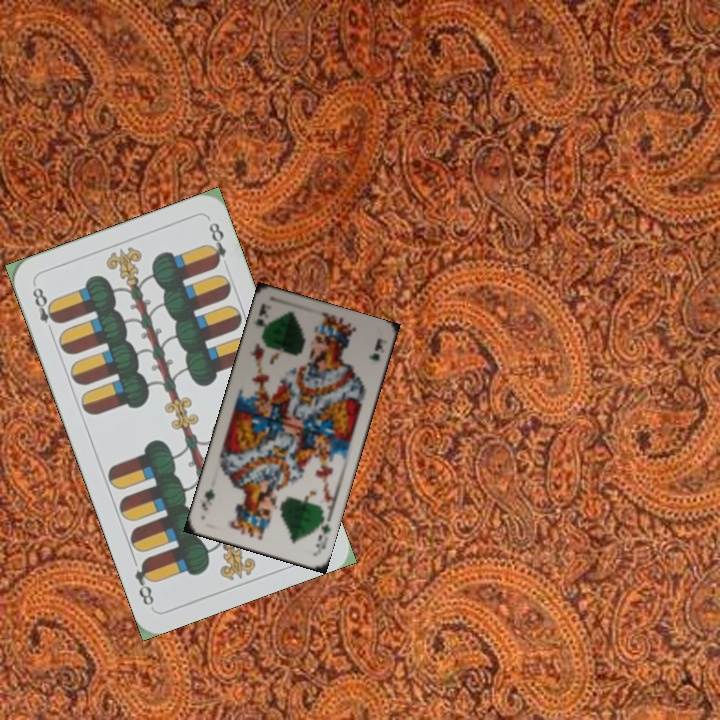E8: (28, 280, 62, 338)
GK: (312, 513, 334, 555), (249, 300, 269, 328)
